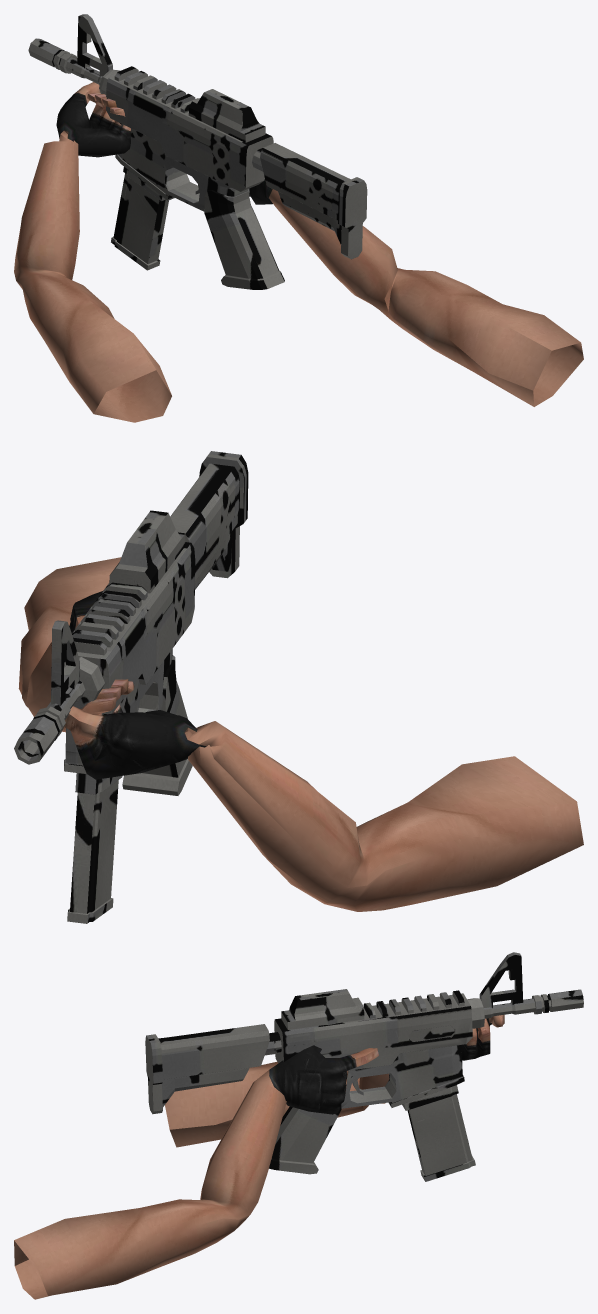
The model's file is gun_m4.glb.
3 renders of one model, top to bottom at view 1: azimuth 30°, elevation 25°; view 2: azimuth 150°, elevation 25°; view 3: azimuth 270°, elevation 25°, orthographic. The views are drawn at different scales.
Parts seen in each view (by area): view 1: body_ARMS, body_QUATP, mag_QUATP; view 2: body_ARMS, body_QUATP, mag_QUATP; view 3: body_ARMS, body_QUATP, mag_QUATP.
Part boxes in pixels (x1,y1,x2,y2): body_ARMS: [14, 82, 583, 422]; body_QUATP: [28, 14, 367, 289]; mag_QUATP: [111, 167, 168, 270]; body_ARMS: [18, 557, 583, 911]; body_QUATP: [14, 451, 248, 795]; mag_QUATP: [67, 773, 122, 923]; body_ARMS: [14, 1014, 504, 1299]; body_QUATP: [145, 952, 583, 1174]; mag_QUATP: [402, 1085, 475, 1181].
Bounding box in the file's own units: 77.05 × 44.06 × 93.32.
2 materials, 2 textured.
